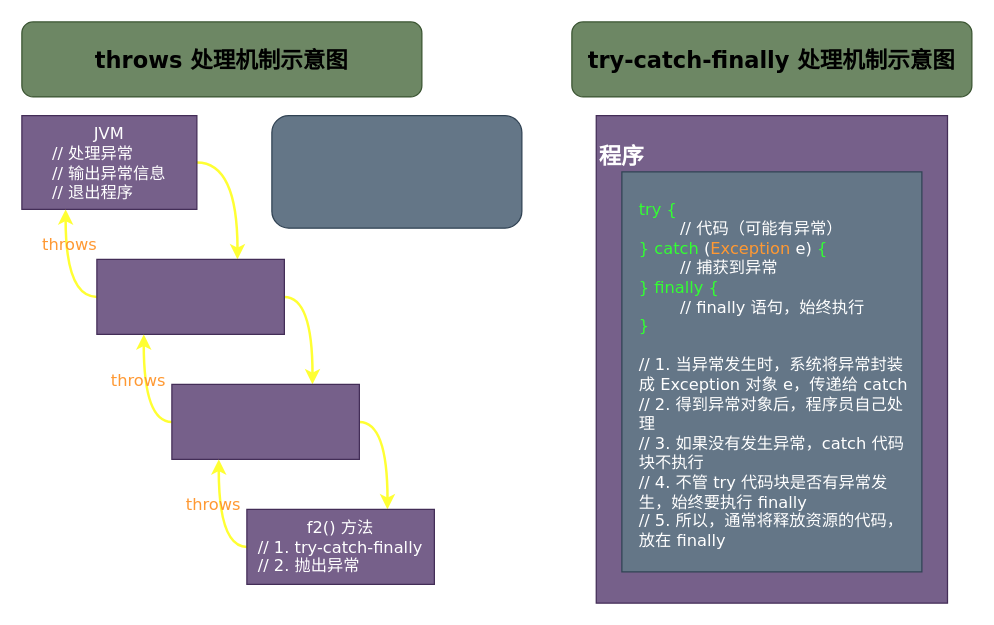
This 994x625 diagram has some shape labels left out. The shapes that lost their labels are listed below. From the top down, each one's centre as x and y in pixels, then its label:
point (396, 171): 1. try-catch-finally 与 throws 二选一 2. 如果程序员没有显示是处理异常，默认 throws
point (190, 296): main // 1. try-catch-finally // 2. 抛出异常
point (265, 421): f1() 方法 // 1. try-catch-finally // 2. 抛出异常
